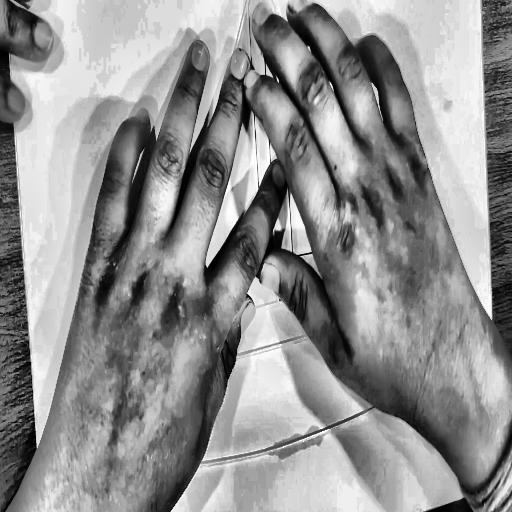boat: (60, 0, 467, 509)
